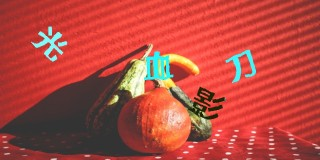光: (30, 26, 67, 62)
刀: (224, 48, 256, 83)
影: (192, 86, 227, 120)
血: (144, 51, 174, 81)
